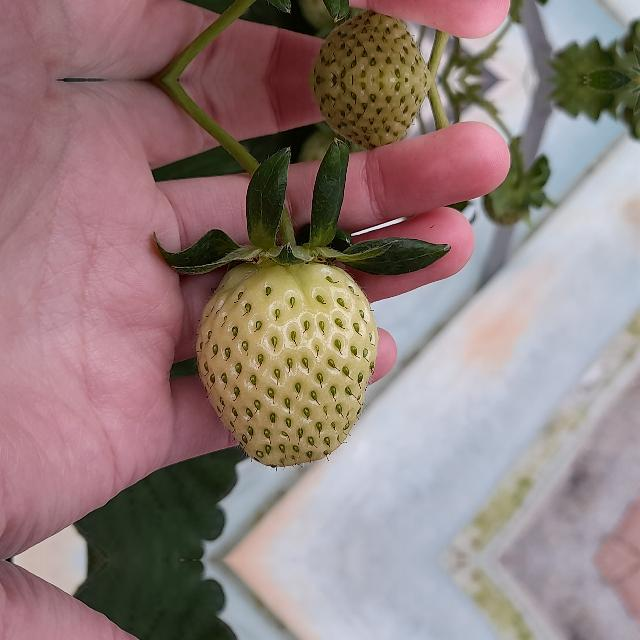Health_25: (195, 258, 378, 467), (310, 80, 440, 148), (310, 12, 440, 80)
